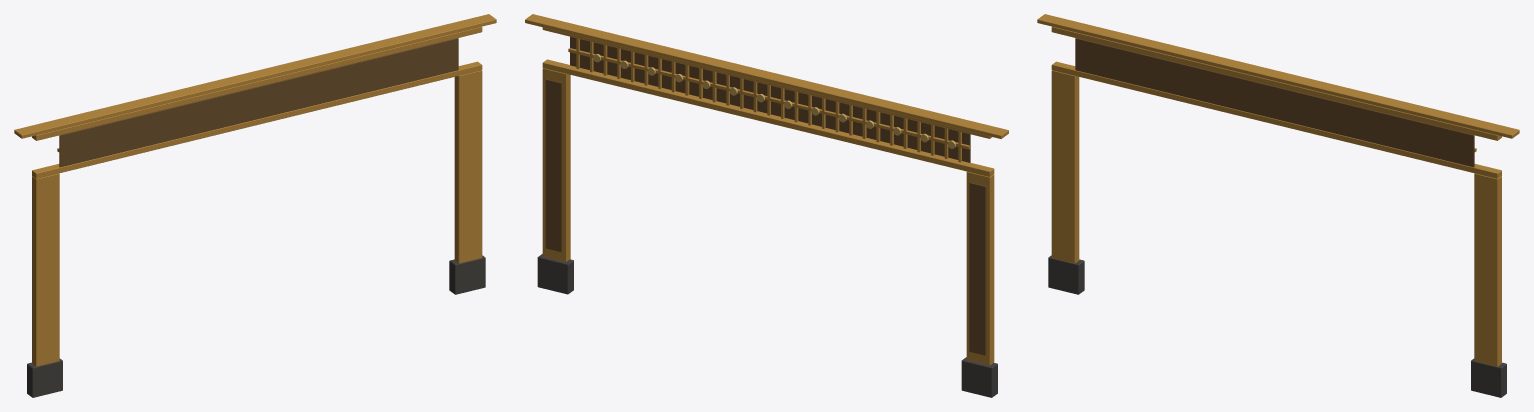
Rendered from prop_of_bronze_portal.glb.
3 views of the same model, side by side, from view 1: azimuth 30°, elevation 25°; view 2: azimuth 150°, elevation 25°; view 3: azimuth 330°, elevation 25° (orthographic).
Visible parts, largest first — view 1: Portal; view 2: Portal; view 3: Portal.
Boxes of the visible parts, x1,y1,x2,y2 form: Portal: (14, 14, 496, 397); Portal: (525, 14, 1008, 397); Portal: (1037, 14, 1519, 397).
Bounding box in the file's own units: 5.24 × 2.8 × 0.146.
